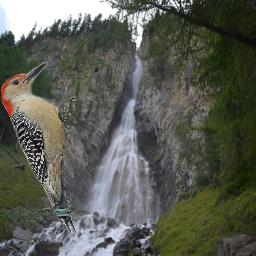Woodpecker: (1, 60, 77, 236)
